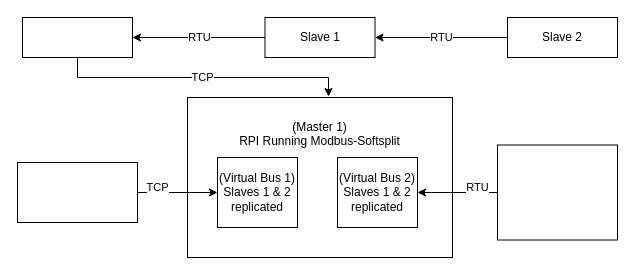
Some shapes in this 635 by 275 pixel diagram are drawn without their labels. Here are the shapes that lost their labels. From the top down, the centre of each, then its label:
the point at 77,37: EW11 RTU to TCP Server
the point at 77,192: (Master 2) Cerbo GX
the point at 557,192: (Master 3) Maxem EV Charge Controller
